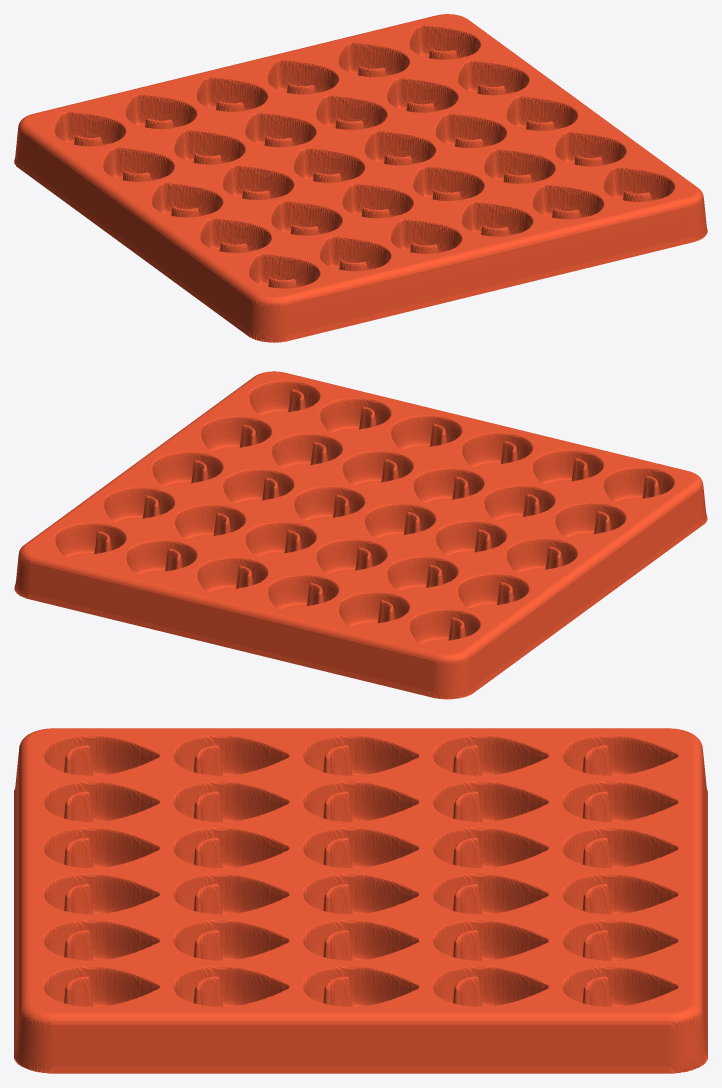
Rendered from mold.glb.
The picture shows the model from 3 angles, top to bottom: view 1: azimuth 30°, elevation 25°; view 2: azimuth 150°, elevation 25°; view 3: azimuth 270°, elevation 25°; orthographic projection. The views are drawn at different scales.
Parts seen in each view (by area): view 1: geometry_0; view 2: geometry_0; view 3: geometry_0.
Boxes of the visible parts, x1=… form: geometry_0: x1=14, y1=14, x2=707, y2=342; geometry_0: x1=14, y1=371, x2=707, y2=699; geometry_0: x1=14, y1=728, x2=707, y2=1073.
Bounding box in the file's own units: 0.16 × 0.0136 × 0.1581.
